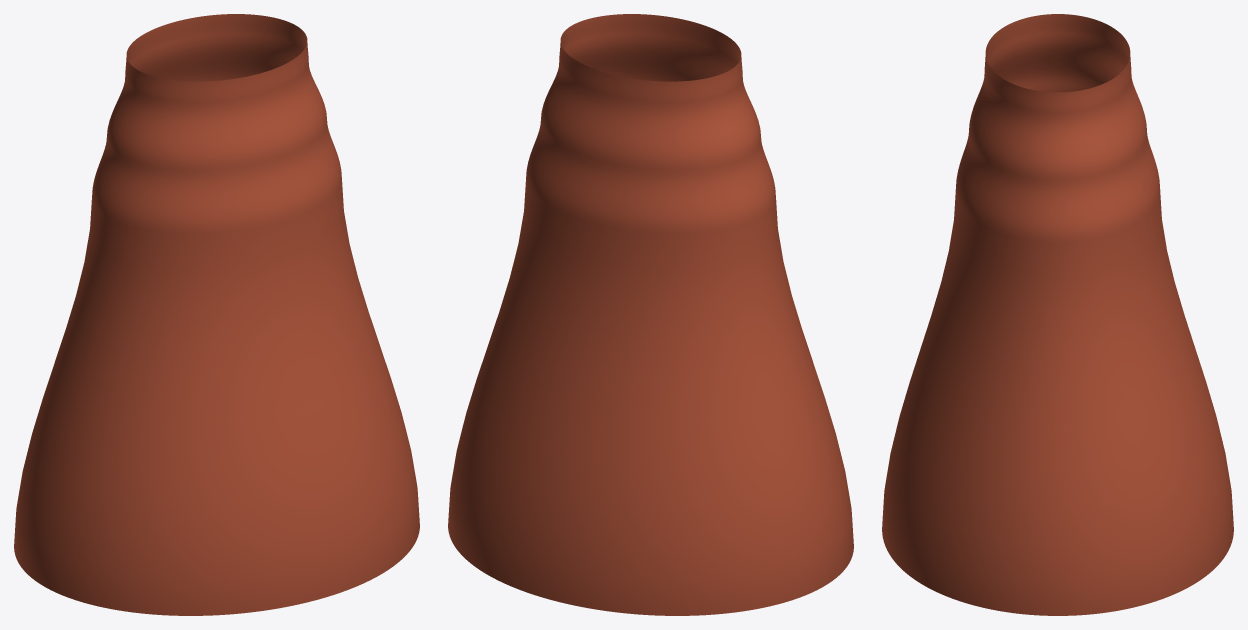
The model's file is demo-a-line-skirt--terracotta--m.r2.glb.
The picture shows the model from 3 angles, left to right: view 1: azimuth 30°, elevation 25°; view 2: azimuth 150°, elevation 25°; view 3: azimuth 270°, elevation 25°; orthographic projection. The views are drawn at different scales.
Parts seen in each view (by area): view 1: demo-a-line-skirt--terracotta--m; view 2: demo-a-line-skirt--terracotta--m; view 3: demo-a-line-skirt--terracotta--m.
Boxes of the visible parts, left/top/right/bottom form: demo-a-line-skirt--terracotta--m: left=14, top=14, right=419, bottom=615; demo-a-line-skirt--terracotta--m: left=448, top=14, right=853, bottom=615; demo-a-line-skirt--terracotta--m: left=882, top=14, right=1233, bottom=615.
Size of the model in its own units: 0.5879 by 0.755 by 0.5056.
